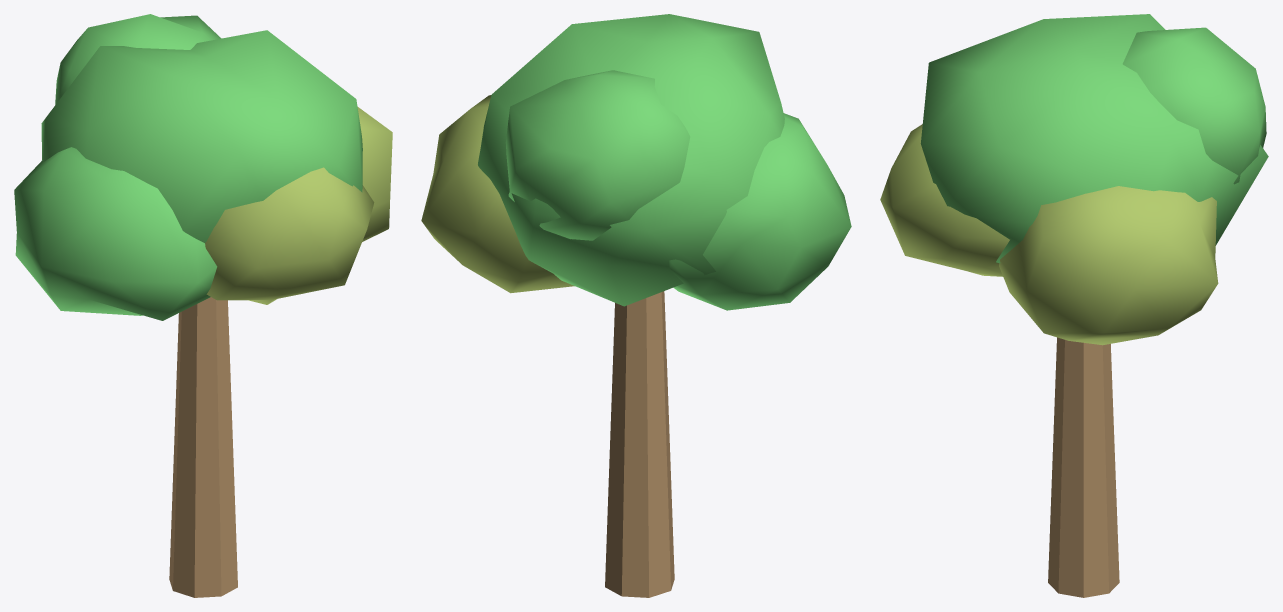
Rendered from JungleTree.fbx.
3 renders of one model, left to right at view 1: azimuth 30°, elevation 25°; view 2: azimuth 150°, elevation 25°; view 3: azimuth 270°, elevation 25°, orthographic.
Parts seen in each view (by area): view 1: Leaves, Leaves2, Trunk; view 2: Leaves, Trunk, Leaves2; view 3: Leaves, Leaves2, Trunk.
Part boxes in pixels (x1=…): Leaves: x1=14, y1=14, x2=362, y2=320; Leaves2: x1=205, y1=107, x2=392, y2=304; Trunk: x1=169, y1=297, x2=237, y2=597; Leaves: x1=478, y1=14, x2=851, y2=310; Trunk: x1=605, y1=291, x2=674, y2=597; Leaves2: x1=421, y1=95, x2=574, y2=293; Leaves: x1=920, y1=14, x2=1268, y2=263; Leaves2: x1=880, y1=124, x2=1218, y2=345; Trunk: x1=1048, y1=337, x2=1119, y2=597.
Size of the model in its own units: 6.6 by 9.16 by 5.97.
